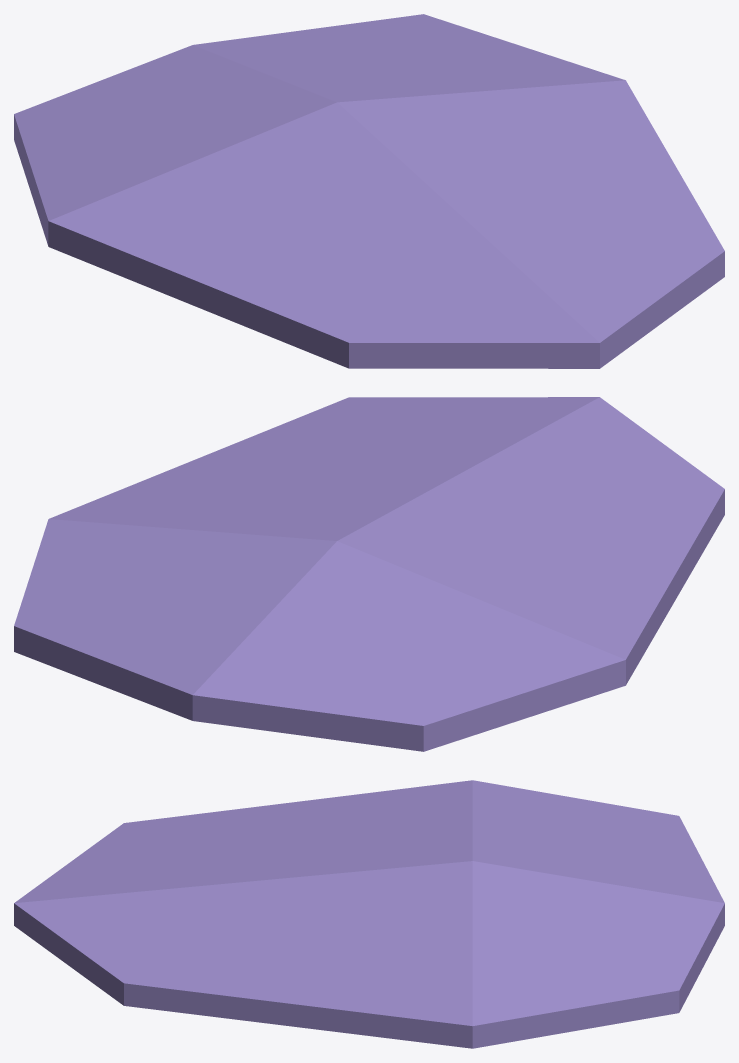
Rendered from Bouclier.fbx.
3 renders of one model, top to bottom at view 1: azimuth 30°, elevation 25°; view 2: azimuth 150°, elevation 25°; view 3: azimuth 270°, elevation 25°, orthographic. The views are drawn at different scales.
Parts seen in each view (by area): view 1: Plane_004; view 2: Plane_004; view 3: Plane_004.
Part boxes in pixels (<box>): Plane_004: <box>14,14,724,368</box>; Plane_004: <box>14,397,724,751</box>; Plane_004: <box>14,780,724,1048</box>.
Size of the model in its own units: 2.82 by 0.346 by 3.44.
